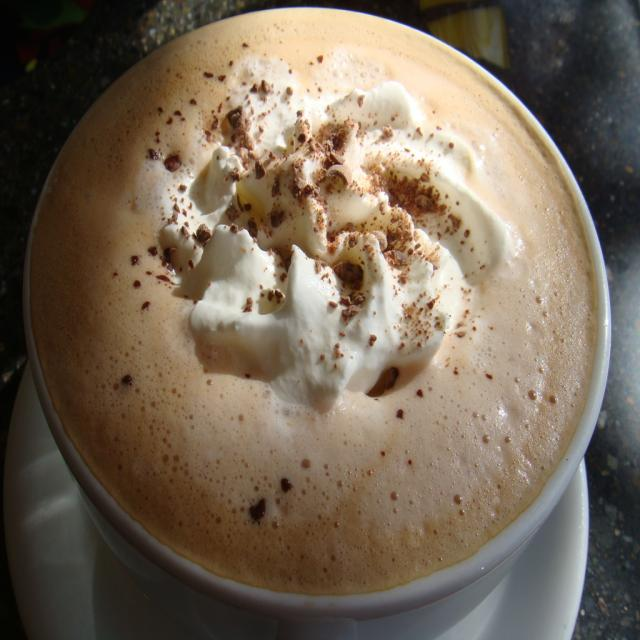Coffee: (28, 0, 604, 640)
